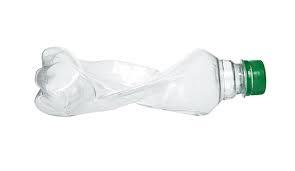plastic: (33, 52, 264, 117)
